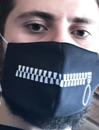with_mask: (2, 1, 99, 130)
